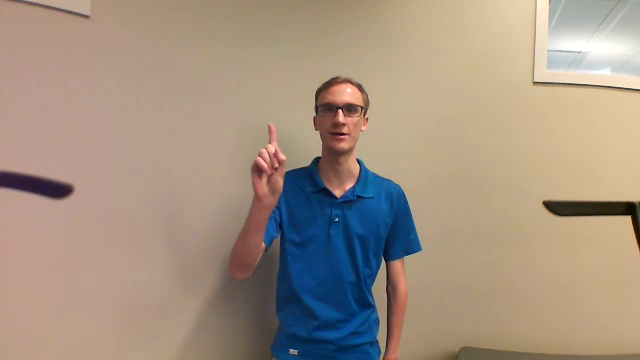up: (246, 119, 291, 209)
